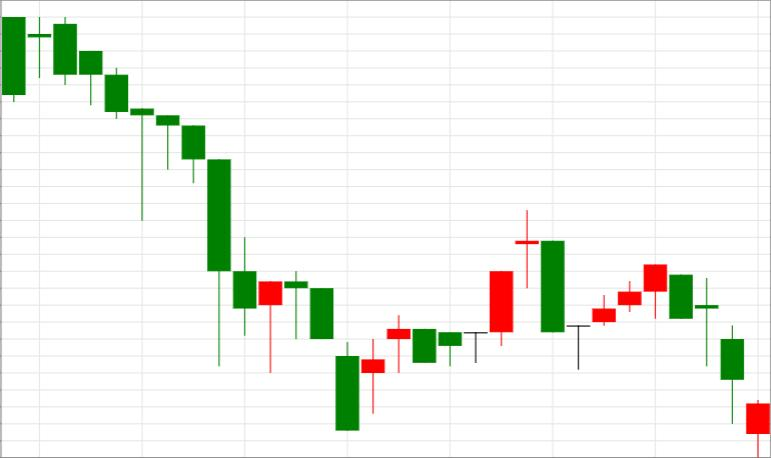evening_star_fall: (361, 210, 564, 414)
